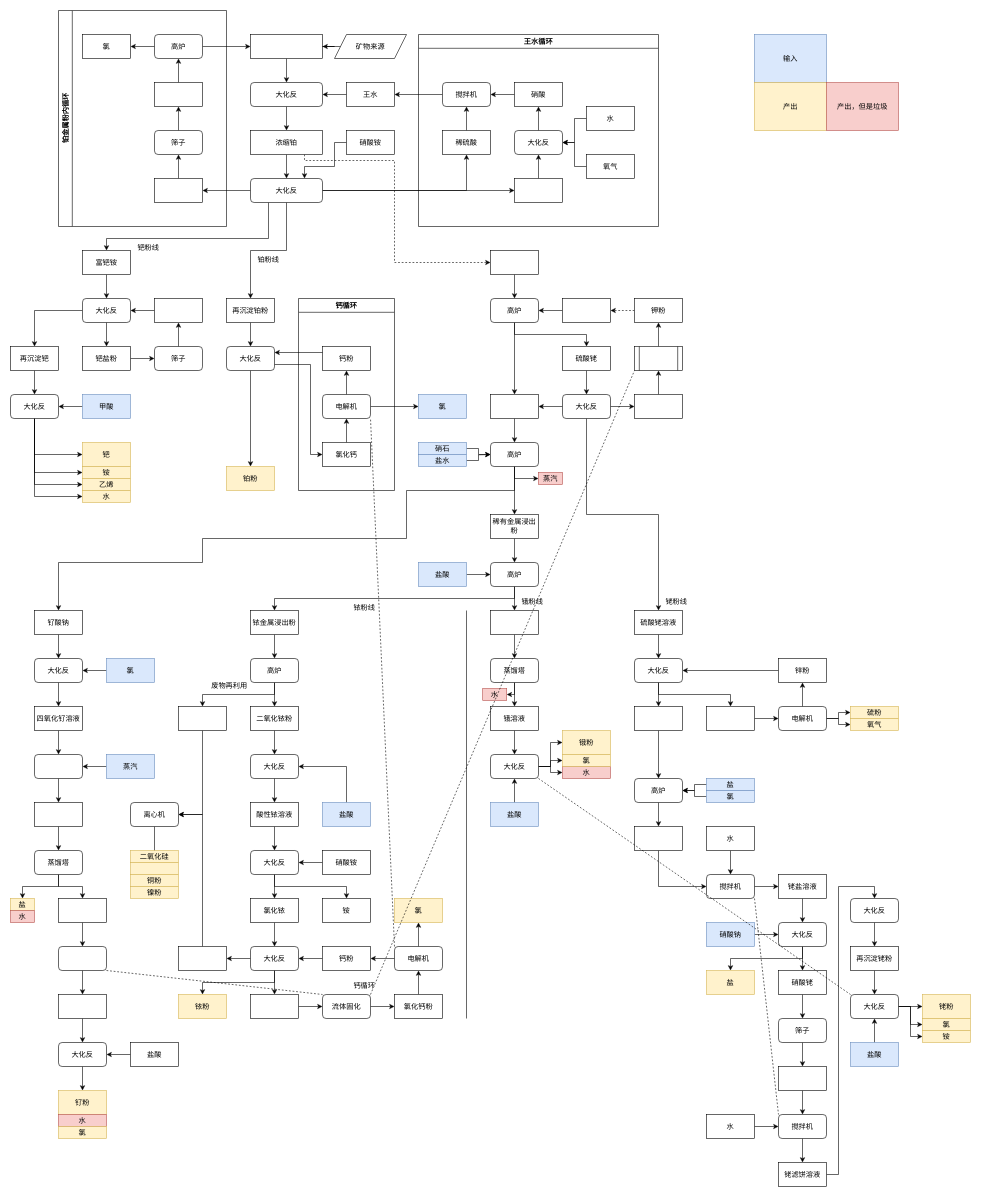
Image size: 981x1197. Some labels were removed from this diagram. The centre of each missing label's shape, as x and y in pixels:
"二氧化氮" belongs at (538,190).
"四氧化钌液体" belongs at (82,910).
"四氧化钌粉" belongs at (82,1006).
"固化+打粉" belongs at (658,358).
"氯化钙液体" belongs at (274,1006).
"污泥浸出粉" belongs at (202,718).
"液体固化" belongs at (82,958).
"热四氧化钌溶液" belongs at (58,814).
"焦硫酸钾" belongs at (586,310).
"熔融钾" belongs at (658,406).
"硫酸锌" belongs at (730,718).
"粗制铑金属粉" belongs at (658,718).
"精制铂盐粉" belongs at (178,94).
"蒸汽裂化" belongs at (58,766).
"酸性锇溶液" belongs at (514,622).
"金粉" belongs at (154,868).
"钯金属粉" belongs at (178,310).
"铂浸出渣粉" belongs at (514,406).
"铂渣粉" belongs at (514,262).
"铂盐粉" belongs at (178,190).
"铂金属粉" belongs at (286,46).
"铑滤饼粉" belongs at (802,1078).
"铑盐粉" belongs at (658,838).
"铜镍混合物" belongs at (202,958).
